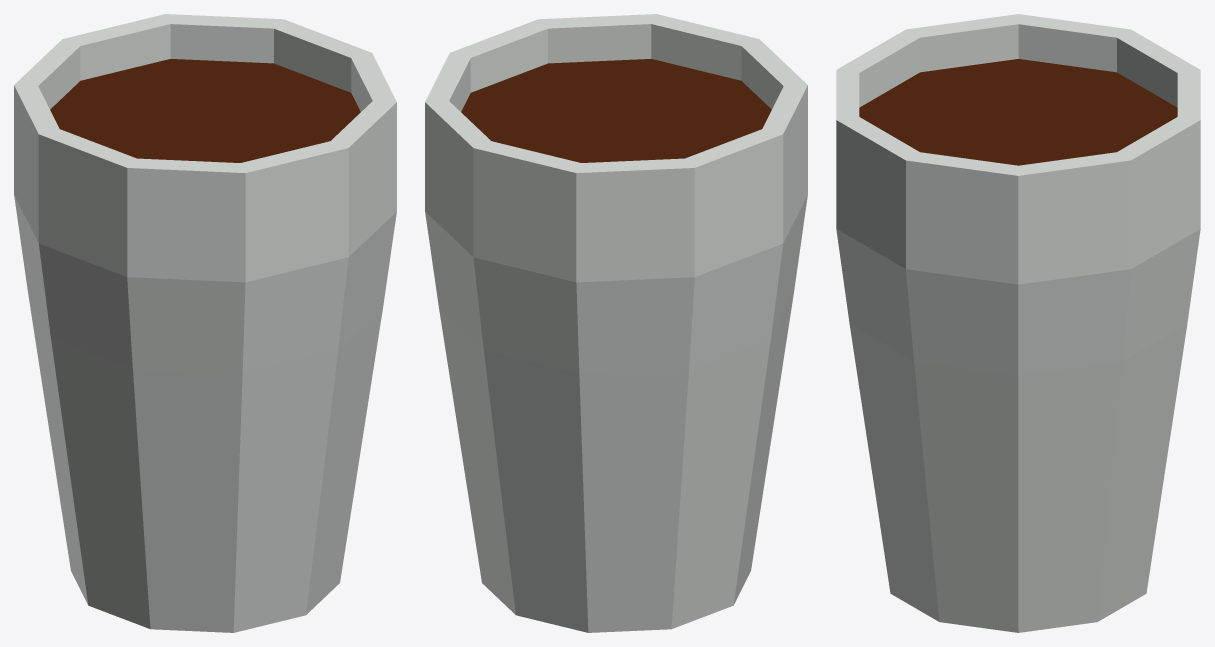
The model's file is cola_soda_cup.glb.
3 views of the same model, side by side, from view 1: azimuth 30°, elevation 25°; view 2: azimuth 150°, elevation 25°; view 3: azimuth 270°, elevation 25° (orthographic).
Visible parts, largest first — view 1: Cup; view 2: Cup; view 3: Cup.
Part boxes in pixels (x1,y1,x2,y2): Cup: (14,14,396,632); Cup: (425,14,807,632); Cup: (836,14,1200,632).
Bounding box in the file's own units: 0.4744 × 0.6572 × 0.4511.
Materials: 1 (1 with a texture image).
